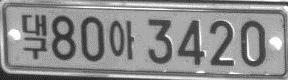0: (240, 20, 266, 67), (80, 15, 105, 61)
2: (210, 19, 235, 67)
3: (148, 19, 173, 64)
4: (177, 20, 204, 65)
8: (51, 14, 76, 60)
대구_V: (21, 13, 47, 59)
아: (109, 19, 135, 59)
